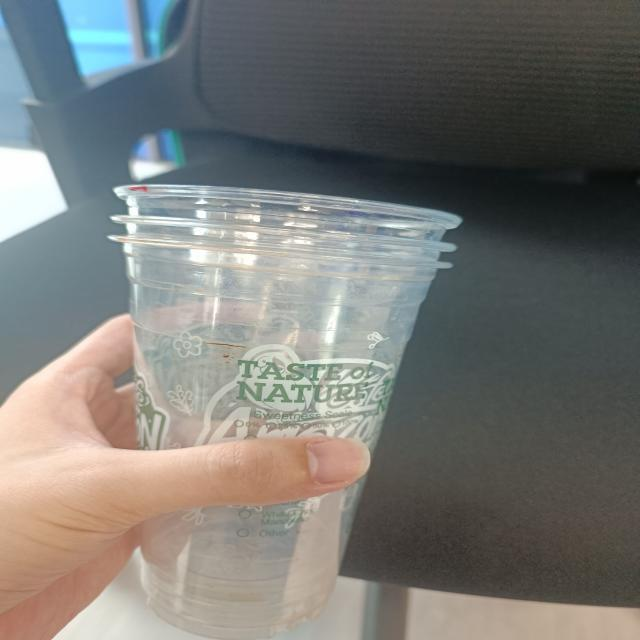bottle: (116, 218, 450, 449), (142, 485, 361, 639)
